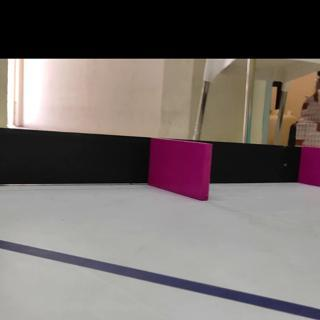xparking: (149, 138, 210, 196), (303, 145, 320, 187)
